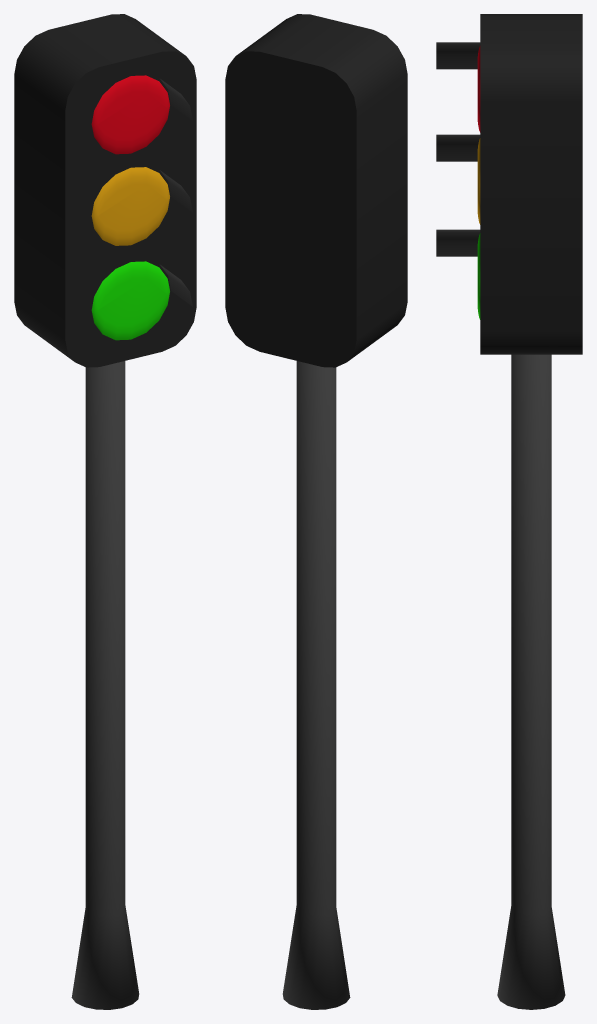
The model's file is light-traffic5.fbx.
The picture shows the model from 3 angles, left to right: view 1: azimuth 30°, elevation 25°; view 2: azimuth 150°, elevation 25°; view 3: azimuth 270°, elevation 25°; orthographic projection.
Parts seen in each view (by area): view 1: Cube, Cylinder, Cylinder.003, Cylinder.005, Cylinder.001, Cylinder.004; view 2: Cube, Cylinder; view 3: Cube, Cylinder, Cylinder.002, Cylinder.006, Cylinder.004.
Boxes of the visible parts, <box> form: Cube: <box>14,14,196,367</box>; Cylinder: <box>71,361,139,1009</box>; Cylinder.003: <box>91,167,169,245</box>; Cylinder.005: <box>91,261,169,340</box>; Cylinder.001: <box>91,75,169,154</box>; Cylinder.004: <box>160,170,192,212</box>; Cube: <box>225,14,407,367</box>; Cylinder: <box>282,361,350,1009</box>; Cube: <box>480,14,582,354</box>; Cylinder: <box>497,354,565,1009</box>; Cylinder.002: <box>436,42,480,69</box>; Cylinder.006: <box>436,229,480,256</box>; Cylinder.004: <box>436,134,480,161</box>.
Size of the model in its own units: 200 by 1389 by 191.
